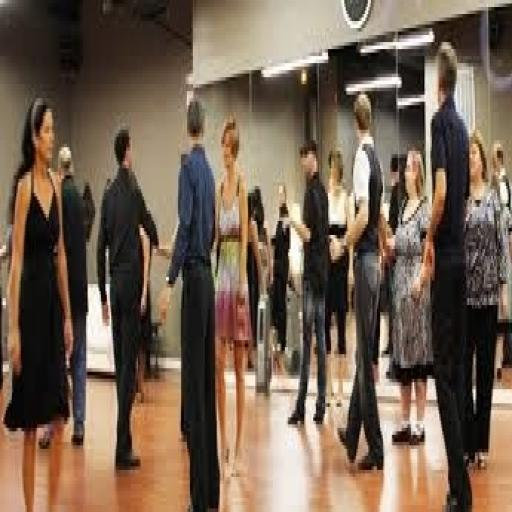dancing: (3, 91, 76, 509)
